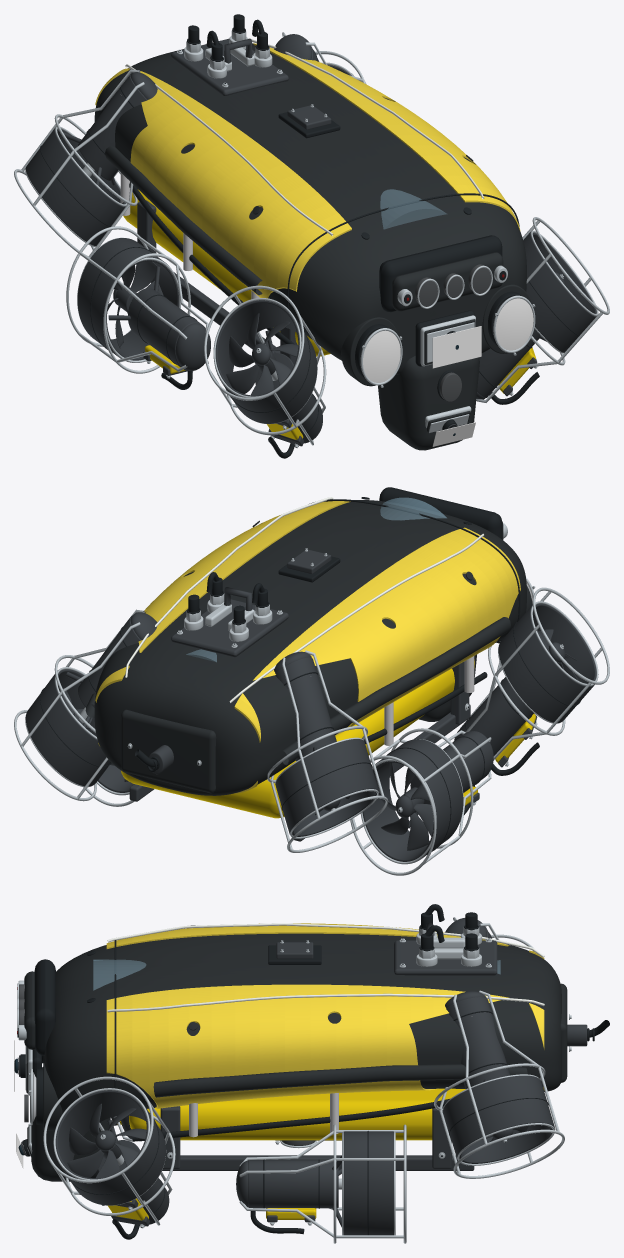
Rendered from rov.glb.
3 views of the same model, one above another, from view 1: azimuth 30°, elevation 25°; view 2: azimuth 150°, elevation 25°; view 3: azimuth 270°, elevation 25° (orthographic). The views are drawn at different scales.
Visible parts, largest first — view 1: Hull | continuous molded graphite envelope, BUOY PORT | syntactic foam block, BUOY STBD | syntactic foam block, PORT_AFT | open aluminium nozzle, Nose | lower camera chin, PORT_FRONT | open aluminium nozzle, STBD_FRONT | open aluminium nozzle, PORT_LONG | open aluminium nozzle, L | molded side bumper, PORT_LONG | brushless motor can, Front | DVL recessed brow, Top | interface service plate (+28 smaller); view 2: Hull | continuous molded graphite envelope, BUOY PORT | syntactic foam block, PORT_FRONT | open aluminium nozzle, PORT_AFT | open aluminium nozzle, PORT_LONG | open aluminium nozzle, Rear | access cover, BUOY STBD | syntactic foam block, STBD_AFT | open aluminium nozzle, Belly | yellow lower fairing, L | molded side bumper, PORT_AFT | brushless motor can, Top | interface service plate (+23 smaller); view 3: Hull | continuous molded graphite envelope, BUOY STBD | syntactic foam block, Belly | yellow lower fairing, STBD_AFT | open aluminium nozzle, STBD_FRONT | open aluminium nozzle, STBD_LONG | open aluminium nozzle, R | molded side bumper, STBD_LONG | brushless motor can, STBD_AFT | brushless motor can, BUOY PORT | syntactic foam block, Top | interface service plate, STBD | underbody longitudinal beam (+31 smaller).
Part boxes in pixels (x1,y1,x2,y2): Hull | continuous molded graphite envelope: (94,43,526,374); BUOY PORT | syntactic foam block: (95,68,351,298); BUOY STBD | syntactic foam block: (253,43,520,230); PORT_AFT | open aluminium nozzle: (25,128,125,245); Nose | lower camera chin: (378,356,479,450); PORT_FRONT | open aluminium nozzle: (215,300,317,423); STBD_FRONT | open aluminium nozzle: (523,232,596,352); PORT_LONG | open aluminium nozzle: (77,238,178,361); L | molded side bumper: (86,130,262,295); PORT_LONG | brushless motor can: (128,288,205,370); Front | DVL recessed brow: (379,235,502,312); Top | interface service plate: (171,38,288,95); Hull | continuous molded graphite envelope: (94,500,526,795); BUOY PORT | syntactic foam block: (234,527,520,793); PORT_FRONT | open aluminium nozzle: (498,603,596,722); PORT_AFT | open aluminium nozzle: (275,739,378,836); PORT_LONG | open aluminium nozzle: (362,739,463,862); Rear | access cover: (121,709,216,793); BUOY STBD | syntactic foam block: (95,501,350,745); STBD_AFT | open aluminium nozzle: (25,669,111,786); Belly | yellow lower fairing: (121,659,474,818); L | molded side bumper: (282,617,510,765); PORT_AFT | brushless motor can: (275,657,336,760); Top | interface service plate: (171,599,288,657); Hull | continuous molded graphite envelope: (44,933,561,1113); BUOY STBD | syntactic foam block: (106,984,544,1109); Belly | yellow lower fairing: (129,1088,465,1140); STBD_AFT | open aluminium nozzle: (443,1075,555,1163); STBD_FRONT | open aluminium nozzle: (55,1090,165,1205); STBD_LONG | open aluminium nozzle: (343,1131,393,1235); R | molded side bumper: (153,1064,527,1097); STBD_LONG | brushless motor can: (248,1160,338,1208); STBD_AFT | brushless motor can: (446,997,510,1088); BUOY PORT | syntactic foam block: (106,923,544,958); Top | interface service plate: (394,940,497,975); STBD | underbody longitudinal beam: (162,1155,474,1170).
Size of the model in its own units: 0.56 by 0.4 by 0.7902.
